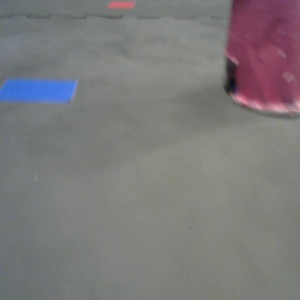middle: (1, 1, 77, 101)
